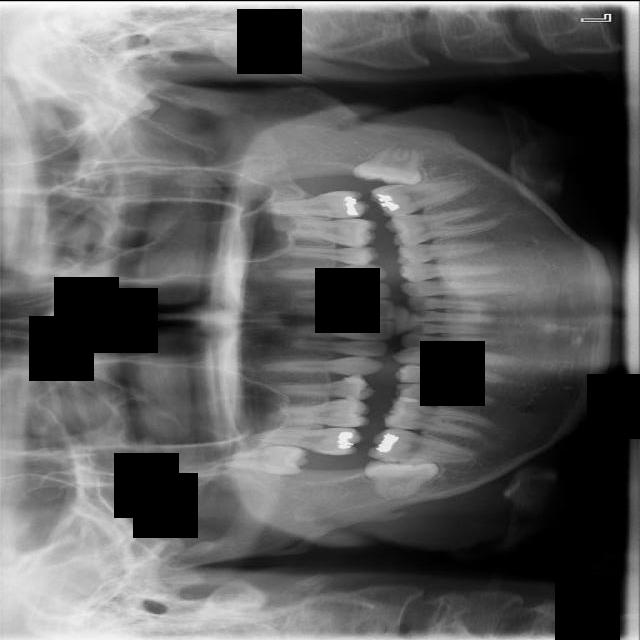3M ESPE Implant: (206, 438, 312, 478)
52: (365, 421, 423, 467), (318, 187, 373, 221), (371, 183, 426, 217), (308, 424, 366, 456)
73: (588, 24, 606, 34)
BioHorizons Implant: (258, 188, 373, 221)
Biomet 3i Implant: (353, 141, 423, 185)
Blue Sky Bio Implant: (367, 177, 476, 219)
Caries: (250, 418, 365, 458)
Implant: (366, 426, 479, 464)
Keystone Dental Implant: (363, 451, 441, 503)
